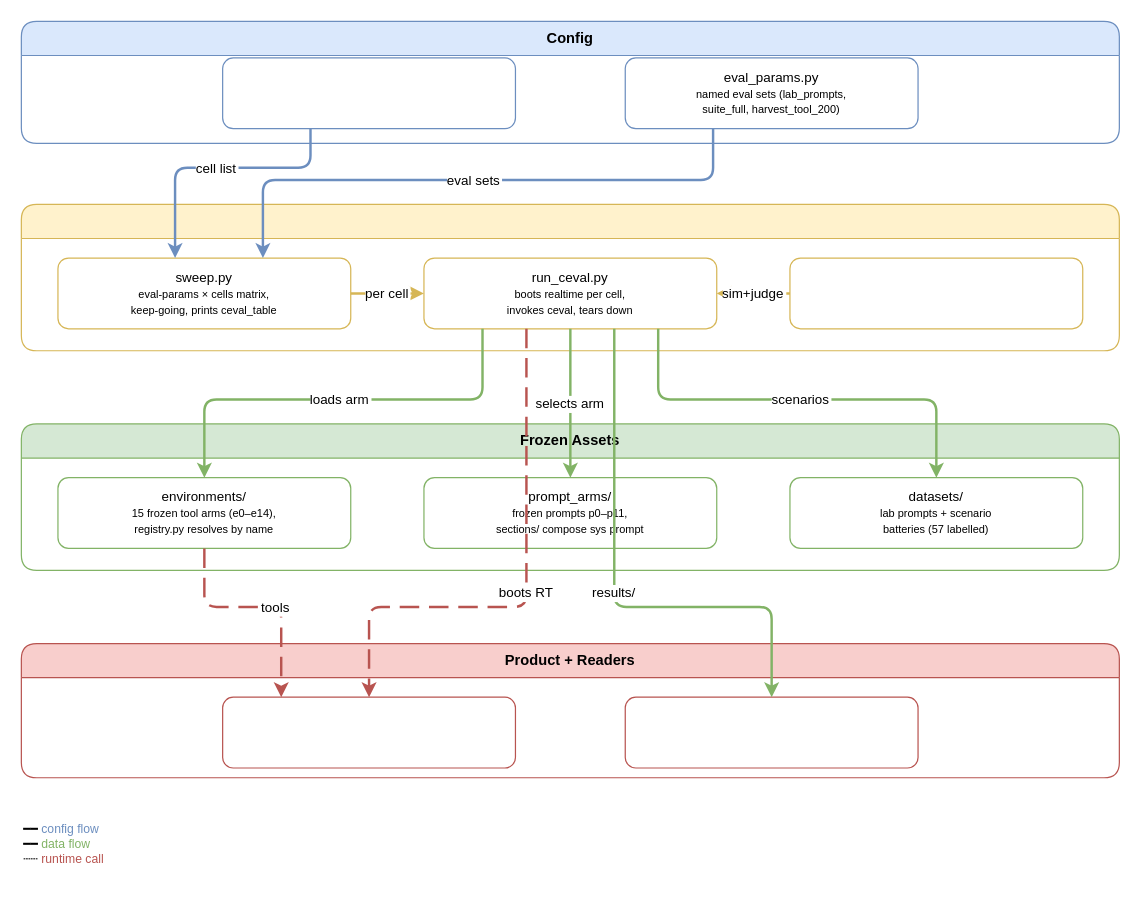
The diagram is 1141 pixels wide and 909 high, and some of its shapes have lost their labels. Here are the shapes that lost their labels. From the top down, the box of each, then its label:
(221, 57, 515, 129): setups/ one JSON per cell, pairs prompt arm + environment
(20, 203, 1119, 351): Orchestration
(789, 257, 1083, 329): models.py named LLM targets (sim+judge), resolves from pipeline.env
(221, 696, 515, 768): convai/ submodule pinned product SHA, realtime service + API under test
(624, 696, 918, 768): view/ inspector.py, ceval_table.py, React app for chart render
